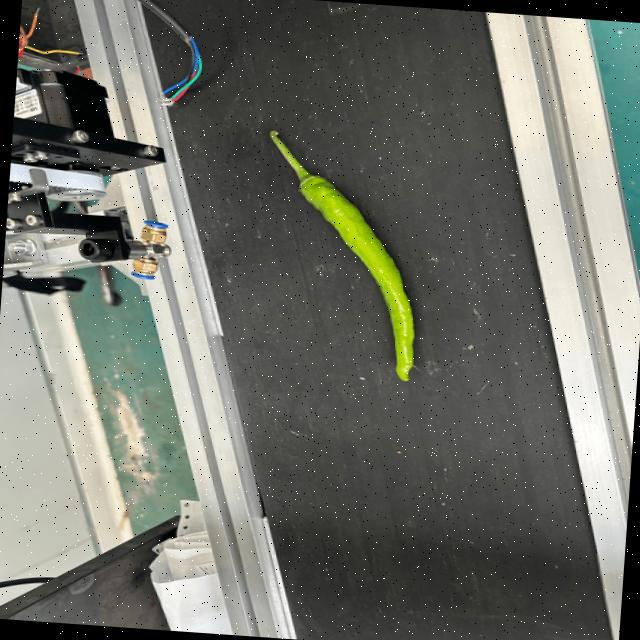chili: (296, 169, 415, 382)
